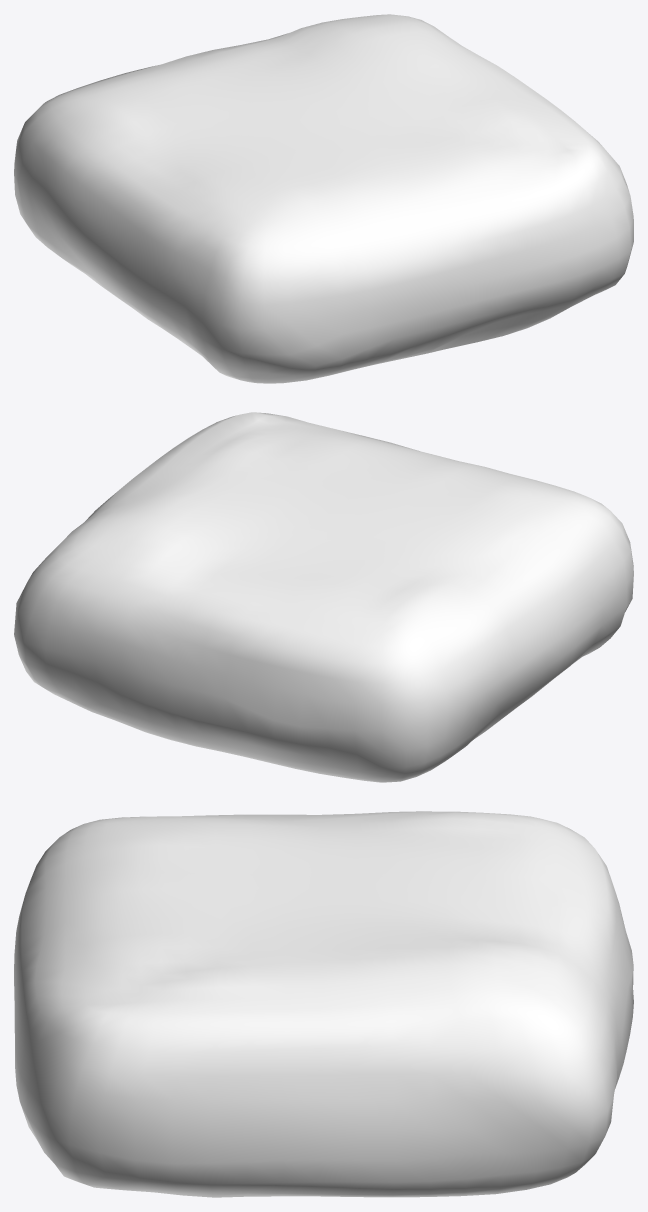
The model's file is jumpBlock.fbx.
The picture shows the model from 3 angles, top to bottom: view 1: azimuth 30°, elevation 25°; view 2: azimuth 150°, elevation 25°; view 3: azimuth 270°, elevation 25°; orthographic projection. The views are drawn at different scales.
Visible parts, largest first — view 1: Cube; view 2: Cube; view 3: Cube.
Part boxes in pixels (<box>): Cube: <box>14,14,633,383</box>; Cube: <box>14,412,633,782</box>; Cube: <box>14,811,633,1197</box>.
Size of the model in its own units: 208 by 85.74 by 209.
